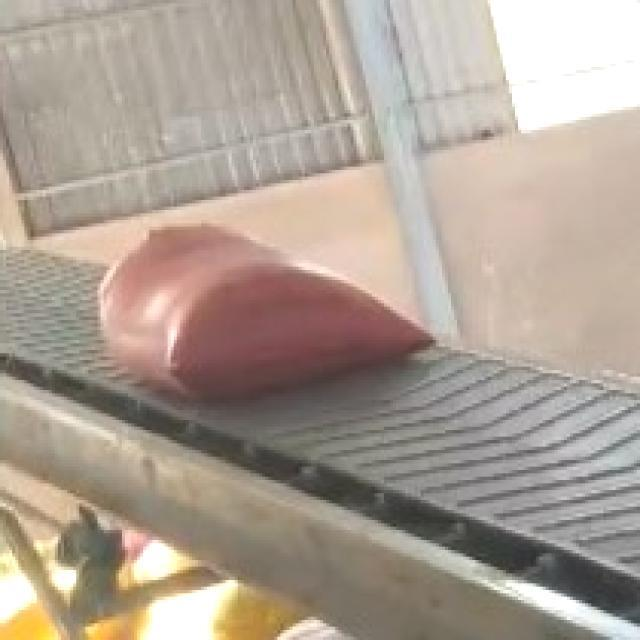gunny_bag: (98, 227, 433, 398)
